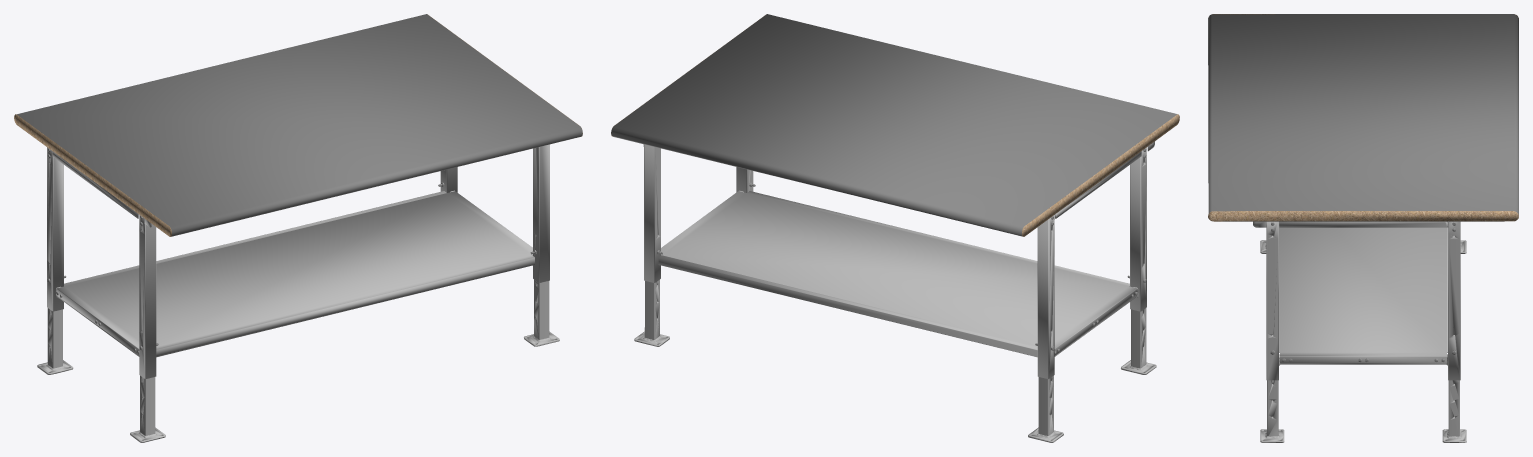
The model's file is packtable.glb.
The picture shows the model from 3 angles, left to right: view 1: azimuth 30°, elevation 25°; view 2: azimuth 150°, elevation 25°; view 3: azimuth 270°, elevation 25°; orthographic projection.
Visible parts, largest first — view 1: sm_table_packing_heavyduty_c01_mesh_00; view 2: sm_table_packing_heavyduty_c01_mesh_00; view 3: sm_table_packing_heavyduty_c01_mesh_00.
Boxes of the visible parts, left/top/right/bottom form: sm_table_packing_heavyduty_c01_mesh_00: left=14, top=14, right=582, bottom=442; sm_table_packing_heavyduty_c01_mesh_00: left=611, top=14, right=1179, bottom=442; sm_table_packing_heavyduty_c01_mesh_00: left=1208, top=14, right=1518, bottom=442.
Bounding box in the file's own units: 1.87 × 0.9936 × 1.22.
4 materials, 2 textured.
